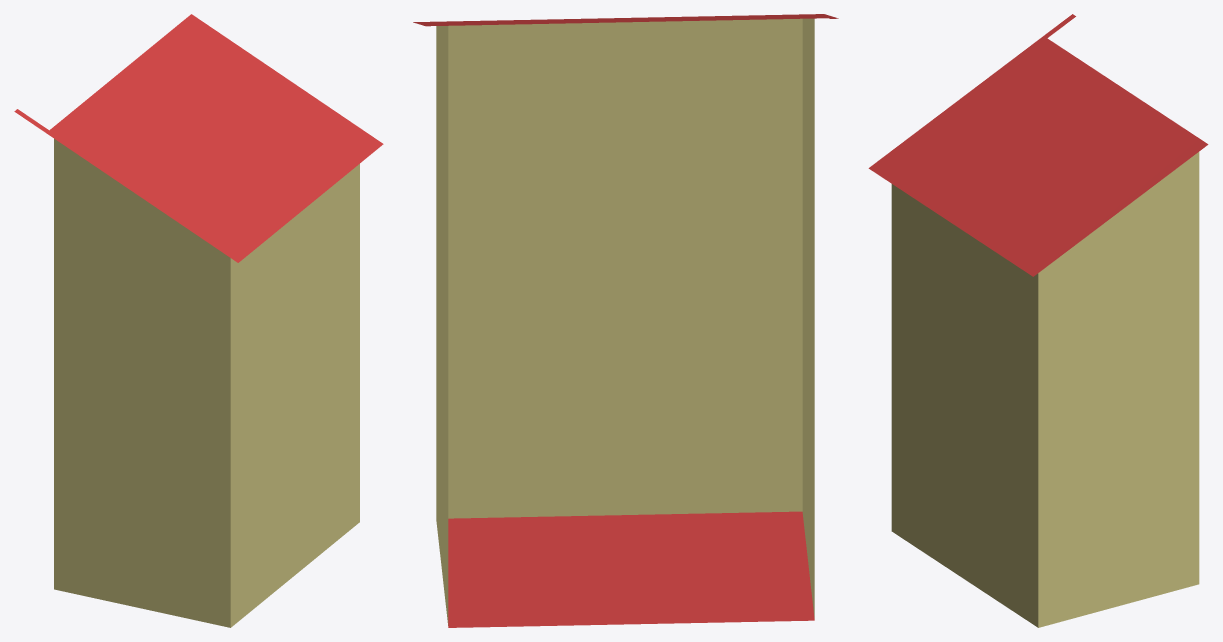
3 renders of one model, left to right at view 1: azimuth 30°, elevation 25°; view 2: azimuth 150°, elevation 25°; view 3: azimuth 270°, elevation 25°, orthographic. The views are drawn at different scales.
Bounding box in the file's own units: 5.74 × 5.03 × 7.51.
